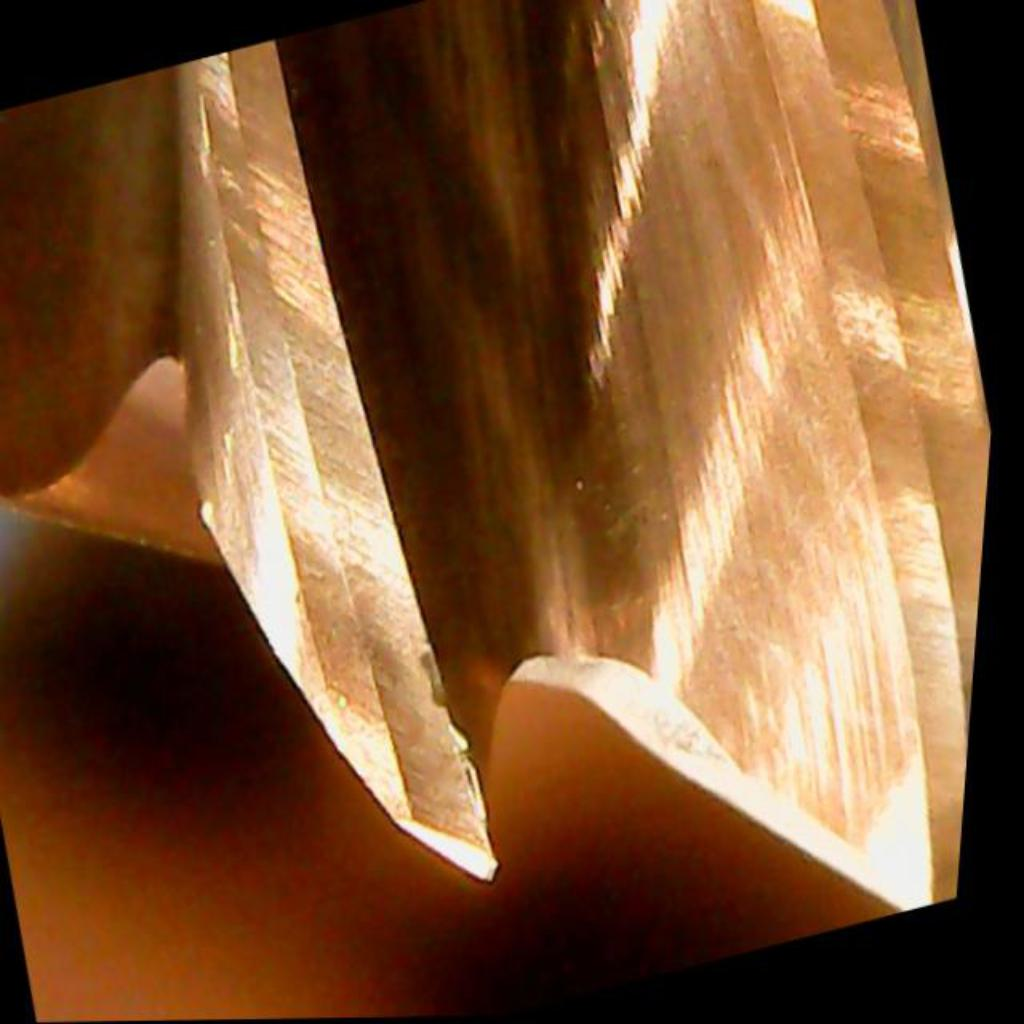Tool-wear-class-1: (170, 330, 608, 949)
